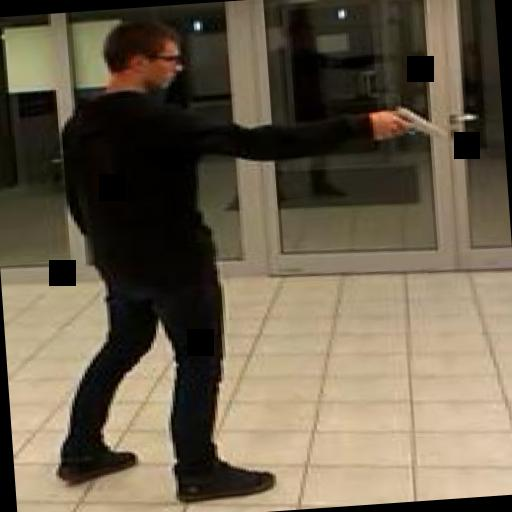Handgun: (377, 97, 451, 143)
